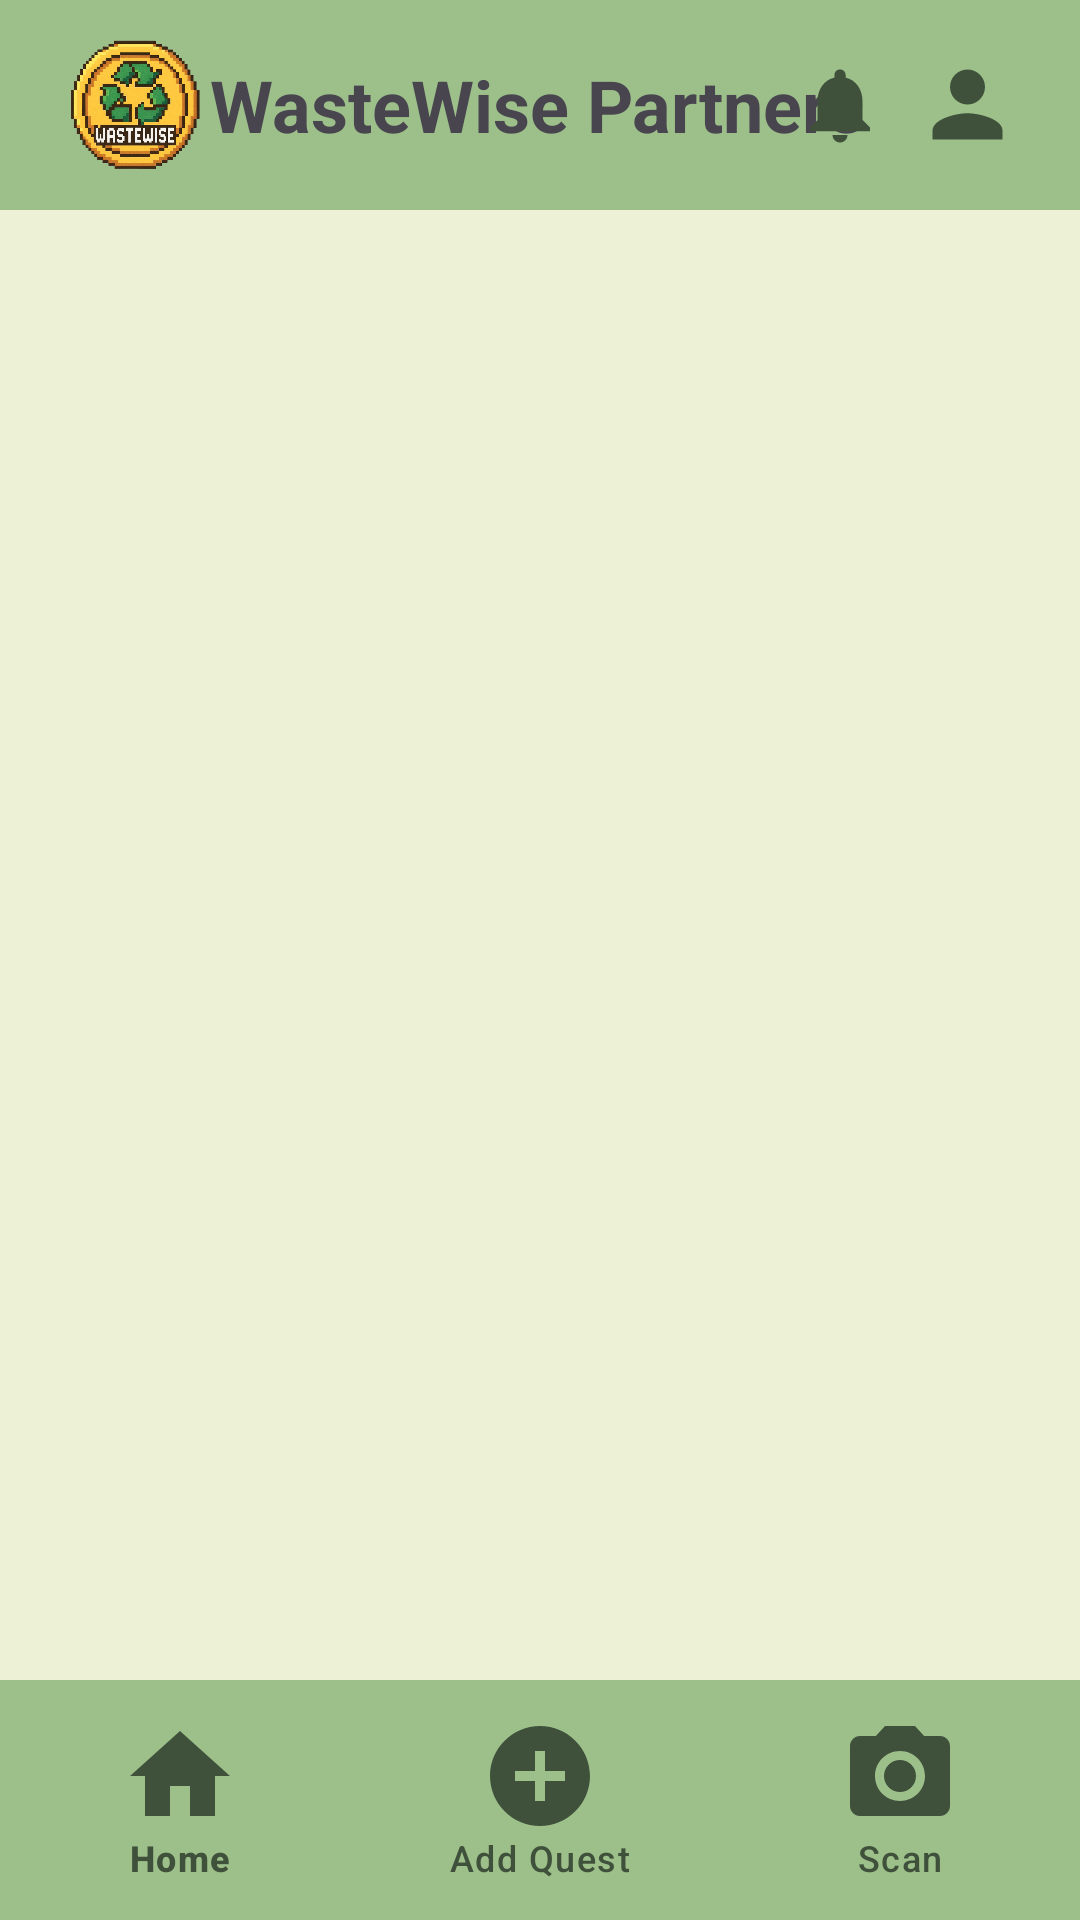

Icon click points for this 1080 × 1920 phone screenshot, format (x,y):
notificationicon: (838,106)
profileicon: (967,104)
